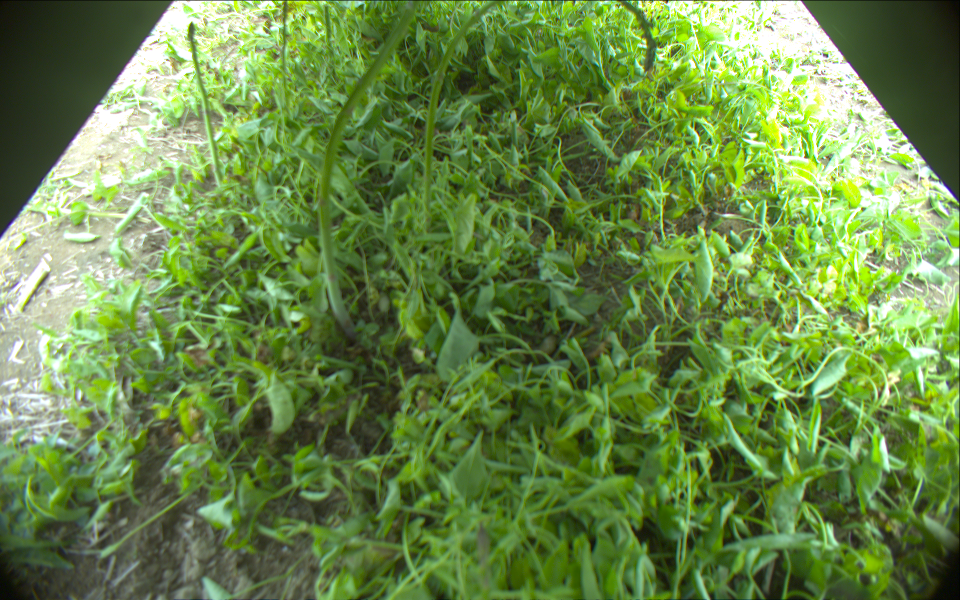aspa: (318, 1, 420, 340), (421, 1, 506, 219), (188, 22, 221, 185), (617, 1, 658, 72), (475, 522, 499, 600), (280, 1, 292, 119), (322, 1, 338, 72)
